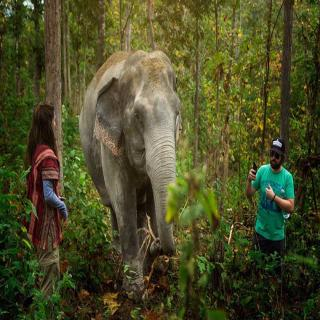Elephant: (74, 44, 191, 310)
